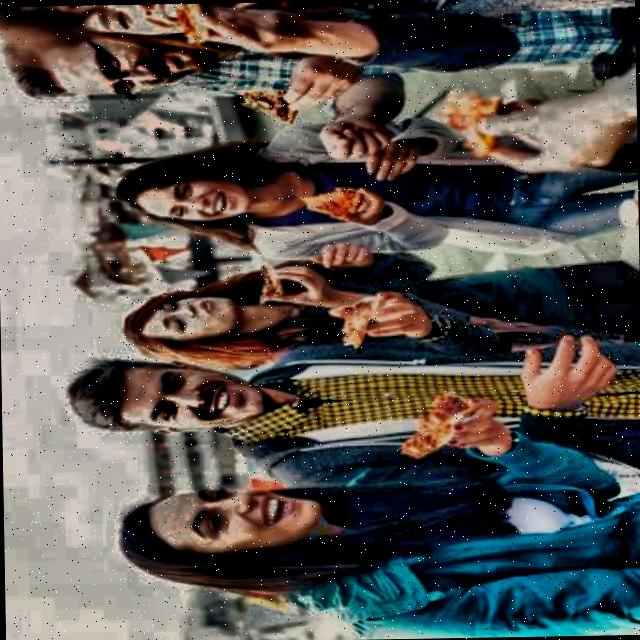happy: (122, 473, 344, 580), (63, 349, 272, 446), (1, 27, 218, 103), (106, 146, 260, 235), (0, 1, 265, 44)
